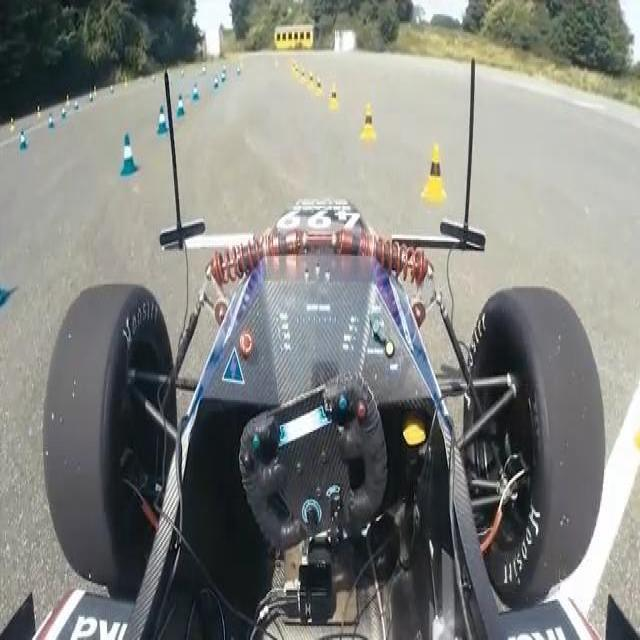blue_cone: (120, 134, 138, 180), (156, 105, 169, 136), (177, 92, 186, 119)
yellow_cone: (421, 140, 448, 202), (360, 99, 379, 139), (329, 84, 340, 110)
